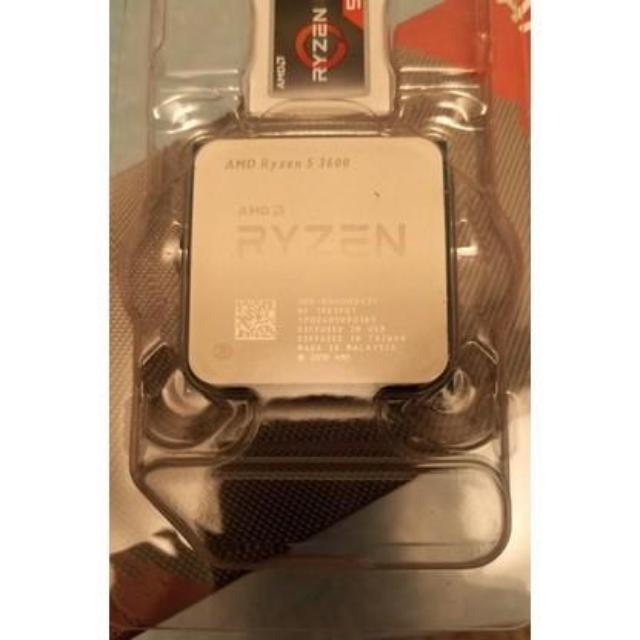CPU: (189, 133, 451, 385)
